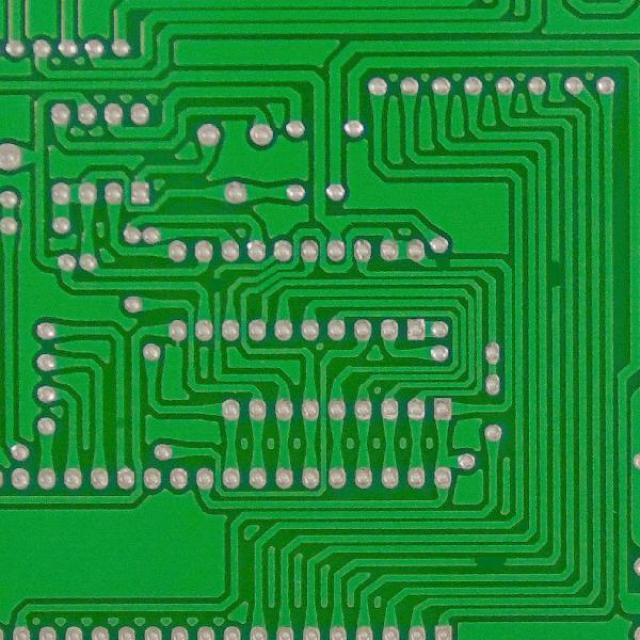Open_Circuit: (467, 551, 515, 572), (546, 248, 566, 298), (208, 269, 226, 301), (431, 253, 458, 271)
